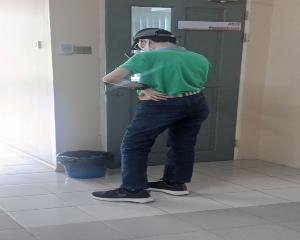stand: (110, 16, 222, 224)
